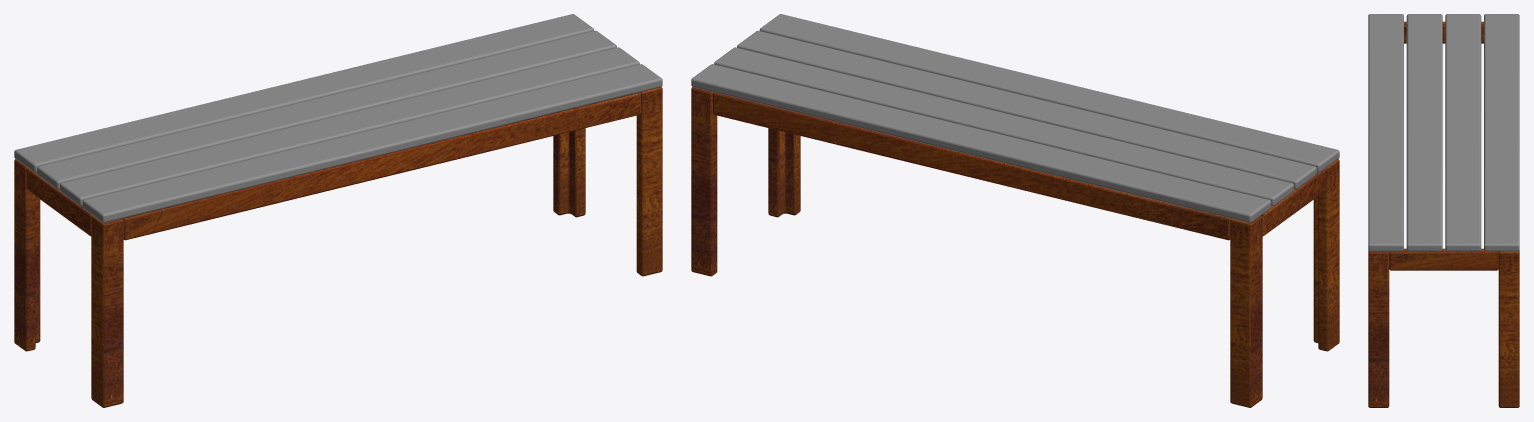
3 renders of one model, left to right at view 1: azimuth 30°, elevation 25°; view 2: azimuth 150°, elevation 25°; view 3: azimuth 270°, elevation 25°, orthographic. The views are drawn at different scales.
Visible parts, largest first — view 1: mesh9_mesh9-geometry, mesh3_mesh3-geometry, mesh1_mesh1-geometry, mesh8_mesh8-geometry, mesh7_mesh7-geometry, mesh5_mesh5-geometry, mesh4_mesh4-geometry; view 2: mesh9_mesh9-geometry, mesh1_mesh1-geometry, mesh3_mesh3-geometry, mesh7_mesh7-geometry, mesh8_mesh8-geometry, mesh6_mesh6-geometry, mesh4_mesh4-geometry; view 3: mesh7_mesh7-geometry, mesh8_mesh8-geometry, mesh1_mesh1-geometry, mesh3_mesh3-geometry, mesh9_mesh9-geometry, mesh2_mesh2-geometry, mesh4_mesh4-geometry.
Part boxes in pixels (box(x1,y1,x2,y2)): mesh9_mesh9-geometry: box(14, 87, 662, 407); mesh3_mesh3-geometry: box(82, 64, 662, 222); mesh1_mesh1-geometry: box(14, 14, 594, 172); mesh8_mesh8-geometry: box(60, 47, 639, 206); mesh7_mesh7-geometry: box(37, 30, 616, 189); mesh5_mesh5-geometry: box(122, 92, 640, 240); mesh4_mesh4-geometry: box(26, 168, 92, 236); mesh9_mesh9-geometry: box(691, 87, 1339, 407); mesh1_mesh1-geometry: box(691, 64, 1271, 222); mesh3_mesh3-geometry: box(759, 14, 1339, 172); mesh7_mesh7-geometry: box(714, 47, 1293, 206); mesh8_mesh8-geometry: box(737, 30, 1316, 189); mesh6_mesh6-geometry: box(713, 92, 1231, 240); mesh4_mesh4-geometry: box(1261, 168, 1327, 236); mesh7_mesh7-geometry: box(1445, 14, 1481, 251); mesh8_mesh8-geometry: box(1406, 14, 1442, 251); mesh1_mesh1-geometry: box(1484, 14, 1519, 251); mesh3_mesh3-geometry: box(1368, 14, 1403, 251); mesh9_mesh9-geometry: box(1368, 250, 1519, 407); mesh2_mesh2-geometry: box(1389, 248, 1498, 270); mesh4_mesh4-geometry: box(1404, 21, 1483, 43).
Size of the model in its own units: 0.9182 by 0.3037 by 0.2543.
